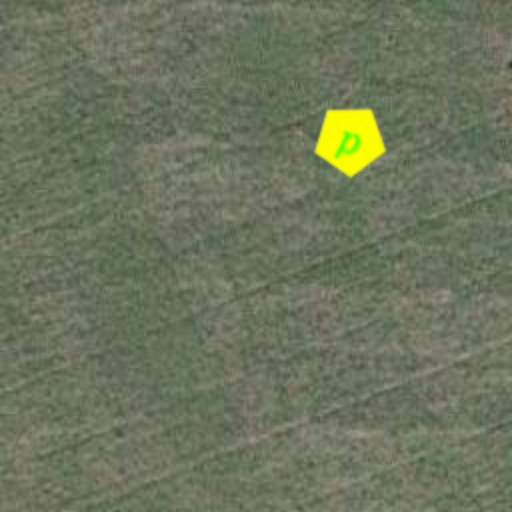pentagon: (302, 92, 398, 188)
